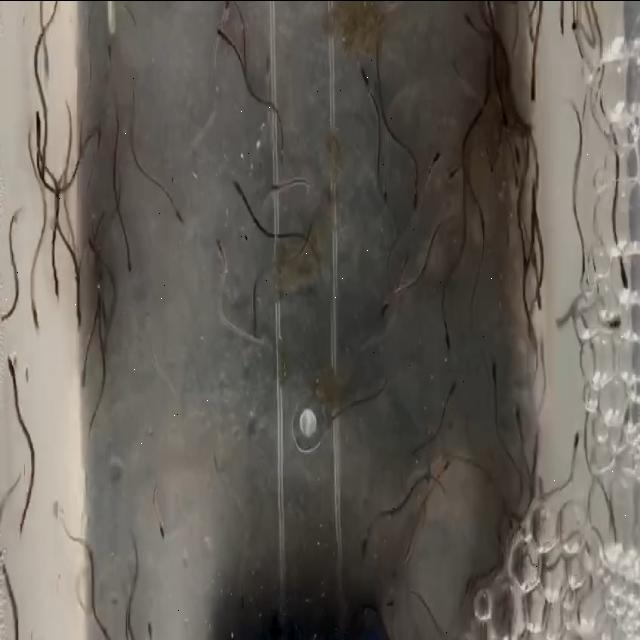active_glass_eel: (614, 250, 640, 316), (164, 187, 192, 240), (212, 11, 236, 66), (24, 280, 44, 342), (506, 384, 528, 440), (606, 282, 624, 350), (206, 229, 234, 271), (2, 341, 22, 395), (356, 519, 376, 572), (482, 348, 504, 394), (354, 56, 374, 106), (30, 92, 46, 154), (443, 302, 458, 368), (226, 165, 251, 203), (563, 421, 583, 468), (86, 223, 102, 276), (428, 120, 442, 180), (48, 255, 64, 307), (120, 237, 138, 283), (456, 0, 476, 41), (504, 134, 526, 170), (531, 276, 549, 320), (367, 290, 395, 318), (266, 174, 288, 208), (442, 375, 464, 409), (408, 167, 424, 213), (524, 56, 540, 102), (438, 448, 456, 486), (72, 288, 88, 330), (445, 138, 457, 192), (220, 0, 240, 27), (154, 516, 170, 548), (495, 97, 511, 126), (74, 363, 92, 388), (558, 6, 568, 44)
